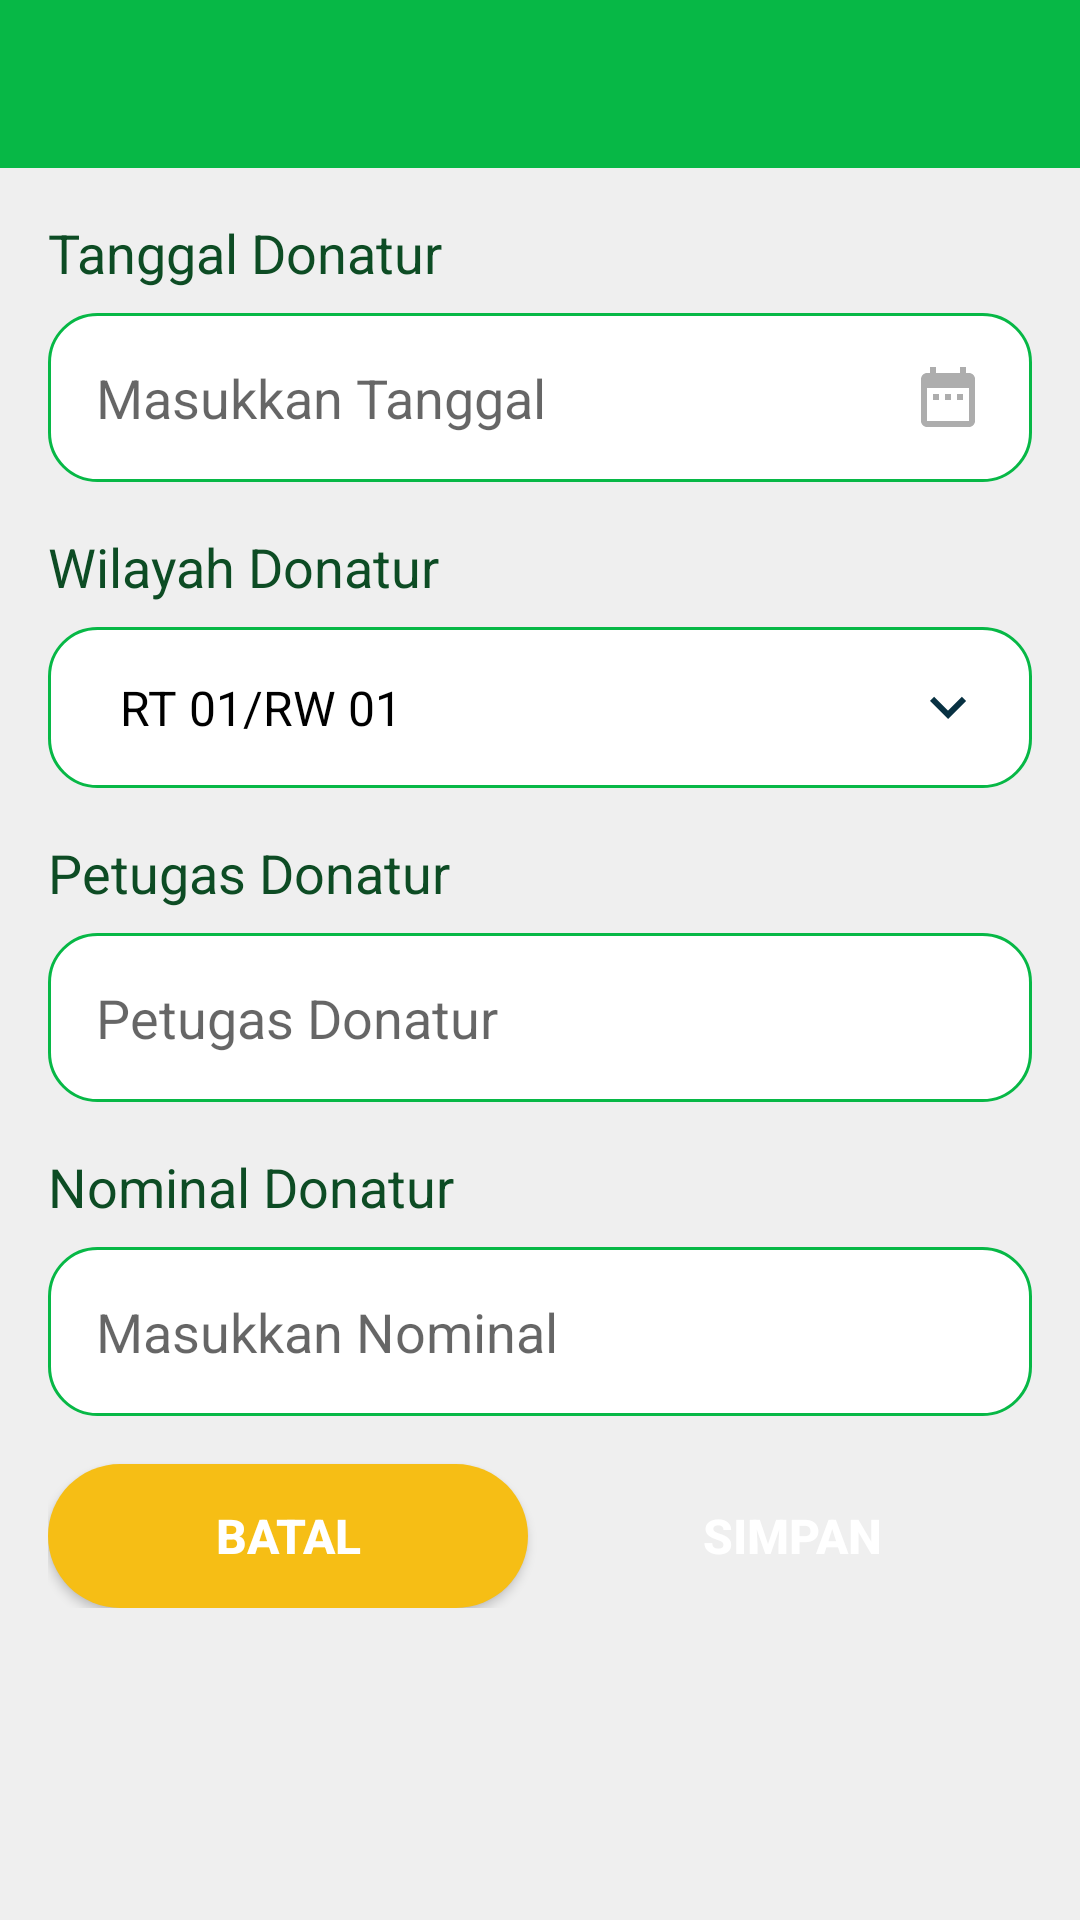

Icon bounding boxes for this 1080 x 1920 phone screenshot, format box(x1, y1, x2, y2):
arrow down: box(930, 697, 966, 719)
